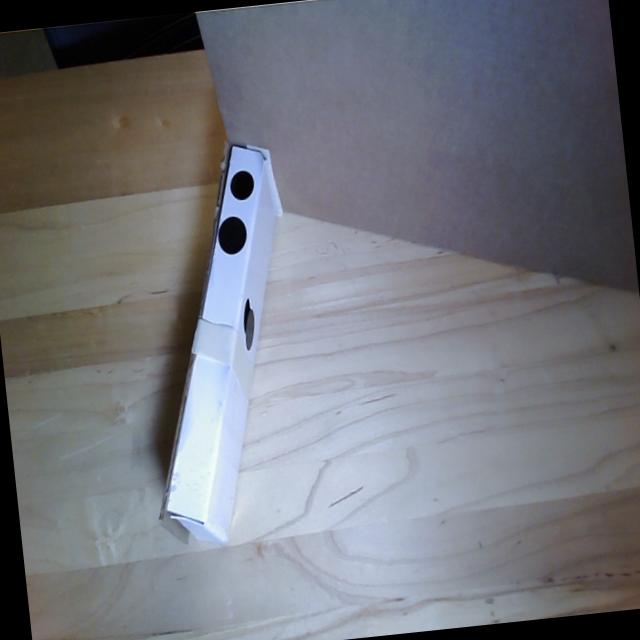Hole: (228, 167, 256, 200), (242, 296, 254, 328)
Sticker: (216, 208, 248, 256), (242, 308, 260, 350)
